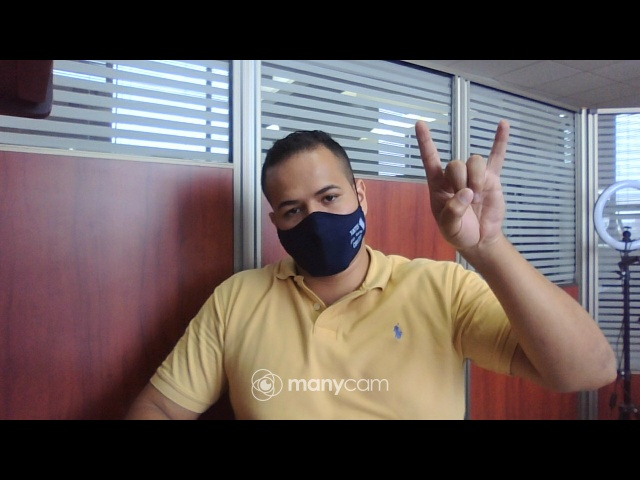I Love You: (412, 117, 515, 258)
